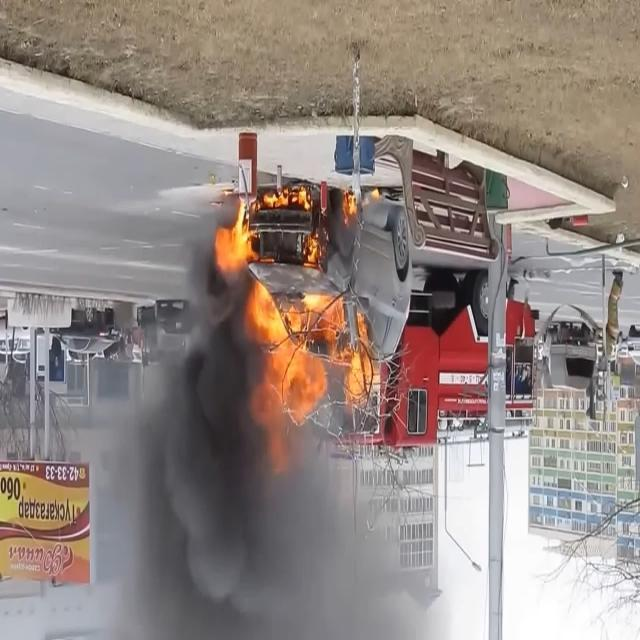fire: (222, 172, 374, 482)
